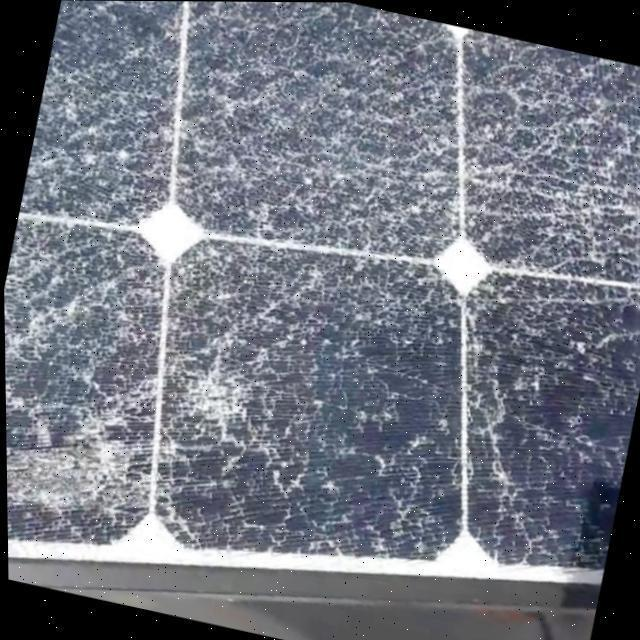Anomaly Solar Panel: (3, 0, 640, 582)
Structural Damage: (3, 0, 640, 562)
